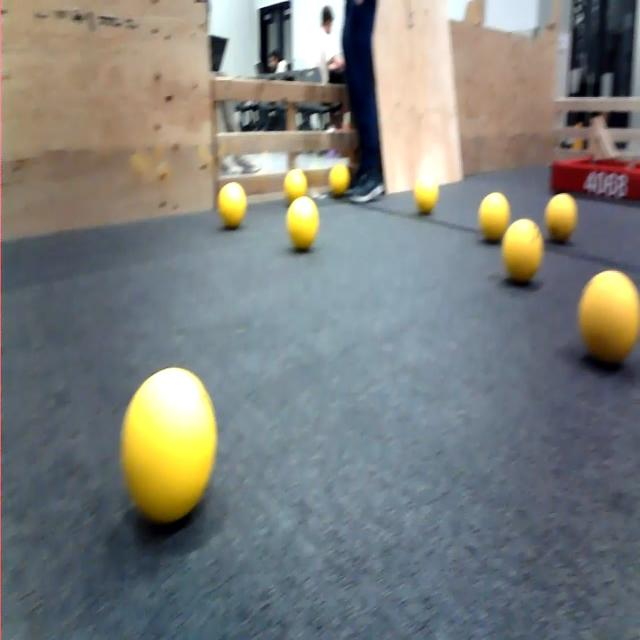Bumper: (540, 140, 640, 223)
fuel: (115, 358, 222, 536), (572, 267, 640, 375), (497, 212, 548, 286), (468, 180, 515, 248), (212, 174, 254, 237), (282, 196, 324, 248), (544, 192, 582, 243), (413, 170, 445, 223), (323, 154, 355, 203), (279, 163, 313, 202)
